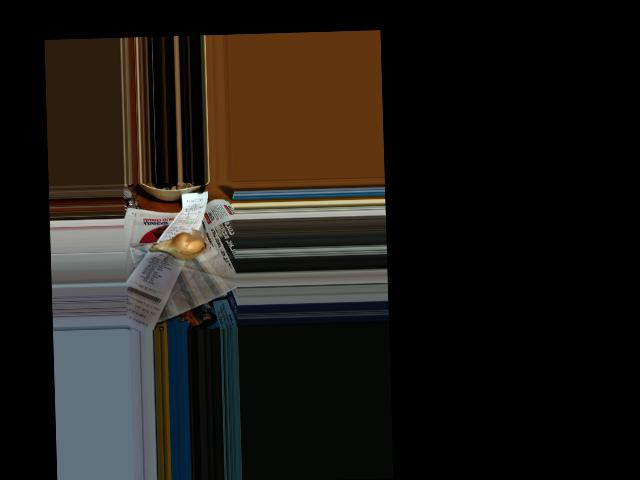onion: (156, 232, 205, 259)
